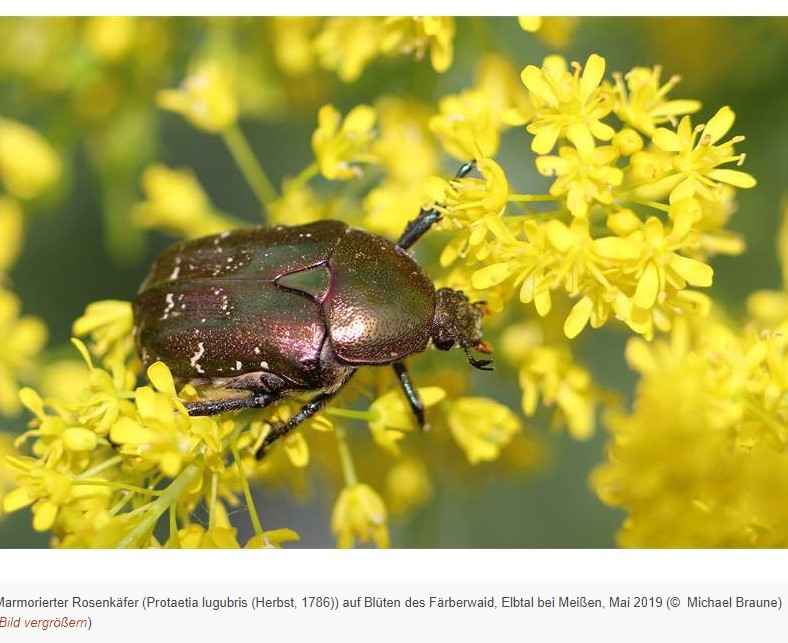Protaetia_lugubris: (137, 152, 501, 463)
